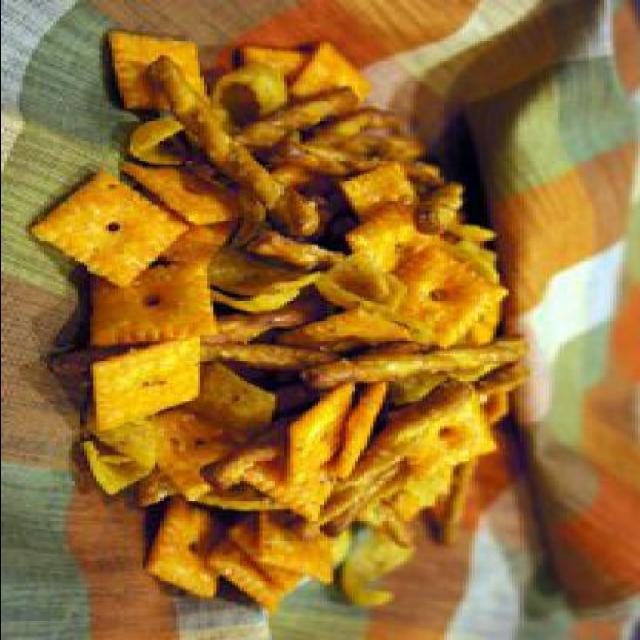Salatini packaged: (46, 47, 542, 607)
